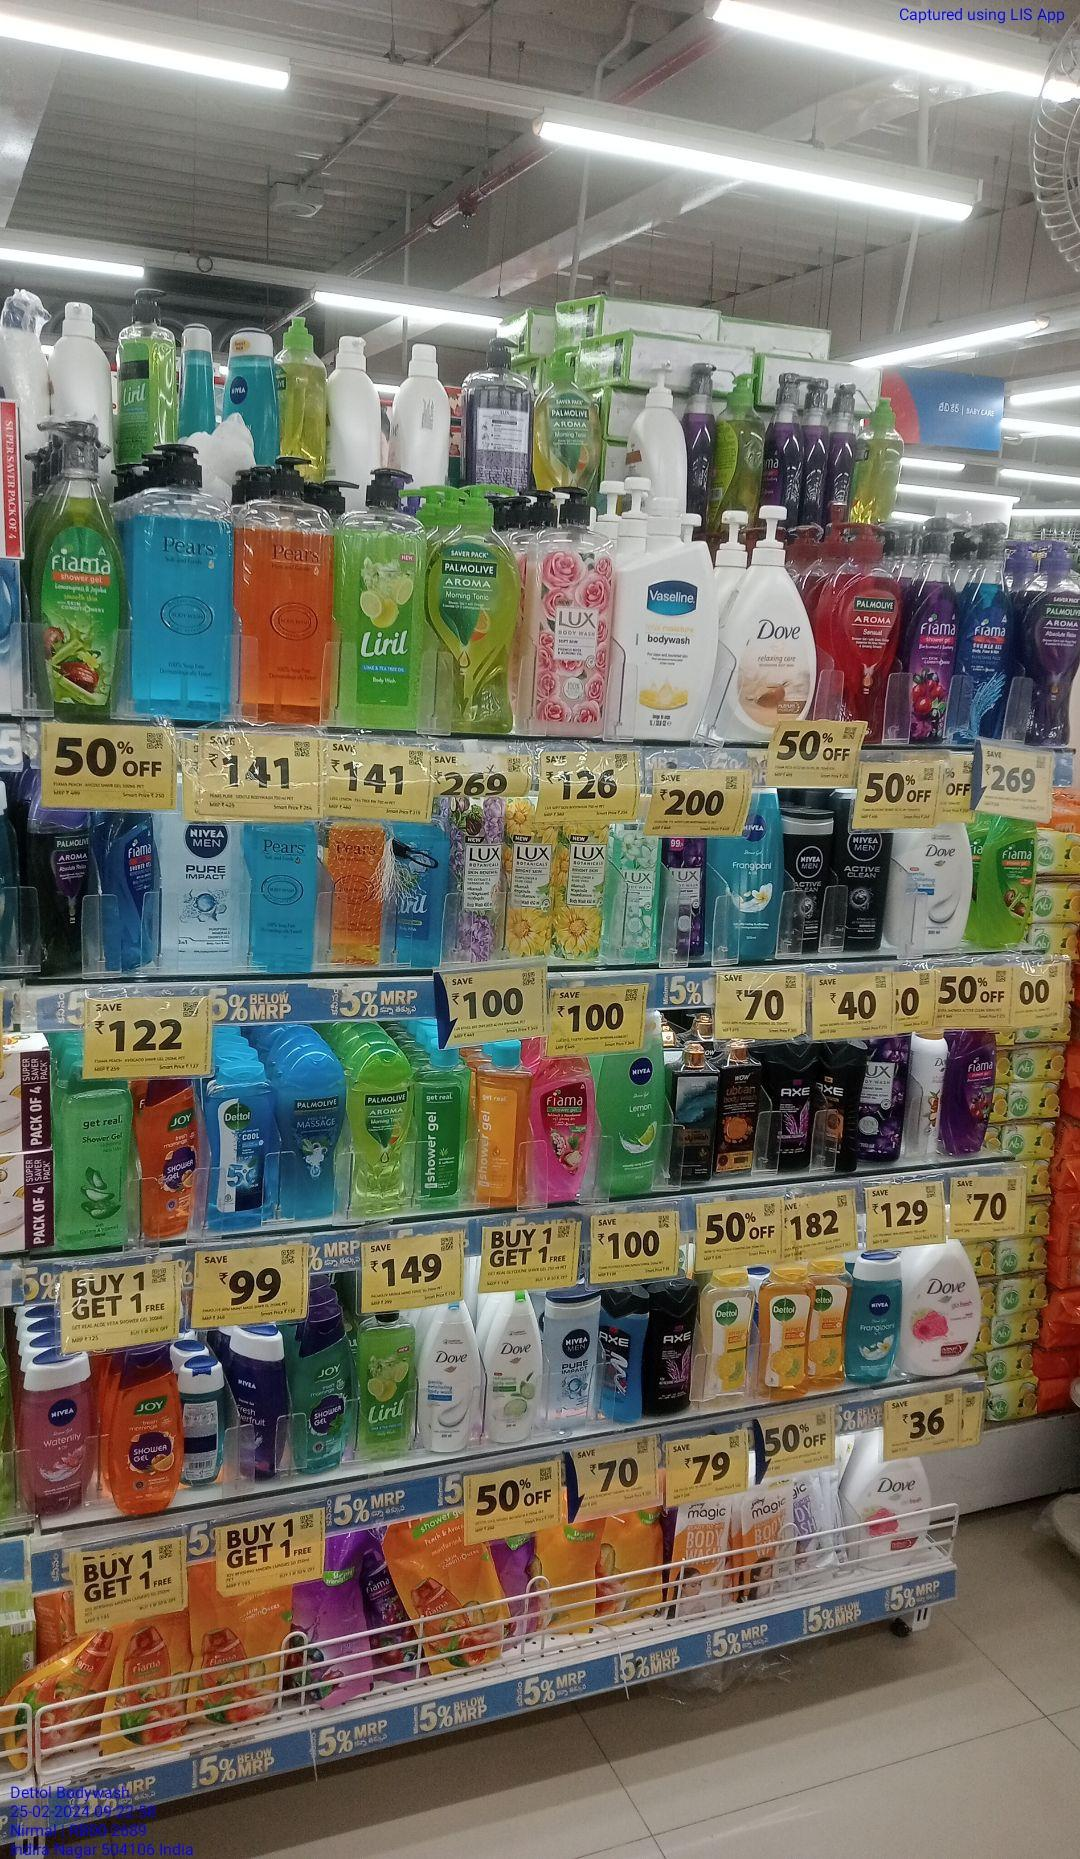Dettol_Bodywash_Cool: (210, 1071, 273, 1233)
Dettol_Bodywash_Refresh: (762, 1266, 809, 1397), (811, 1261, 849, 1386)
Dove_Gentle_Exfoliating_Body_Wash_250ML: (418, 1304, 478, 1451)
Dove_Refreshing_Body_Wash_250ML: (487, 1293, 541, 1442)
Joy_Shower_Gel_Mandarin_and_Lemongrass_250ML: (111, 1350, 181, 1517), (144, 1080, 194, 1237)
Joy_Shower_Gel_Mint_and_Eucalyptus_250ML: (298, 1319, 352, 1475)
Lux_Black_Orchid_Scent_and_Juniper_Oil_Body_Wash_245ML: (665, 837, 706, 967)
Lux_Body_Wash_Skin_Detox_Freesia_Scent_and_Alove_Vera_245ML: (615, 796, 658, 965)
Nivea_Shower_Gel_Frangipani_and_Oil_250ML: (851, 1256, 900, 1383)
Nivea_Shower_Gel_Waterlily_and_Oil_250ML: (26, 1361, 89, 1511)
Palmolive_Aroma_Moments_Feel_The_Massage_Shower_Gel_250ML: (280, 1054, 345, 1216)
Palmolive_Aroma_Morning_Tonic_Shower_Gel_250ML: (351, 1050, 413, 1210)
